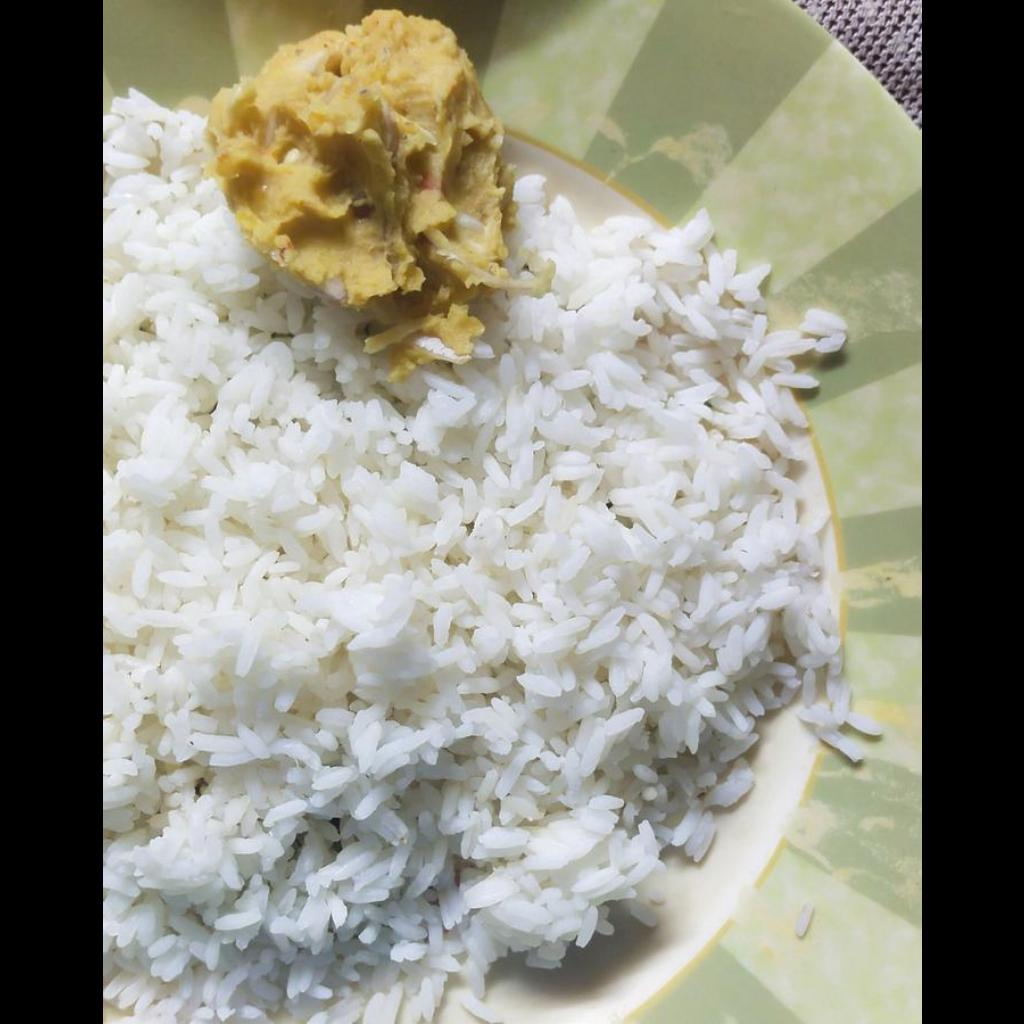potato-mashed: (200, 5, 554, 373)
rice: (102, 85, 880, 1023)
